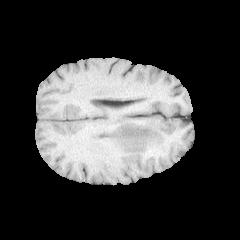glioma: (107, 120, 169, 160)
